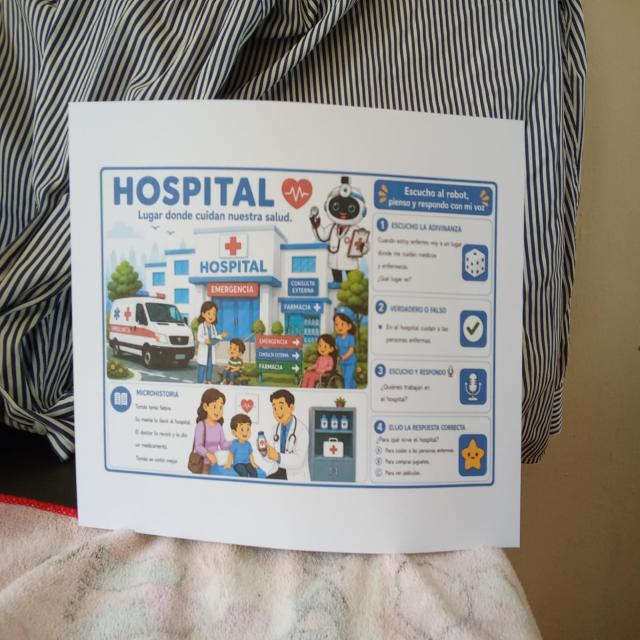hospital: (96, 160, 501, 493)
